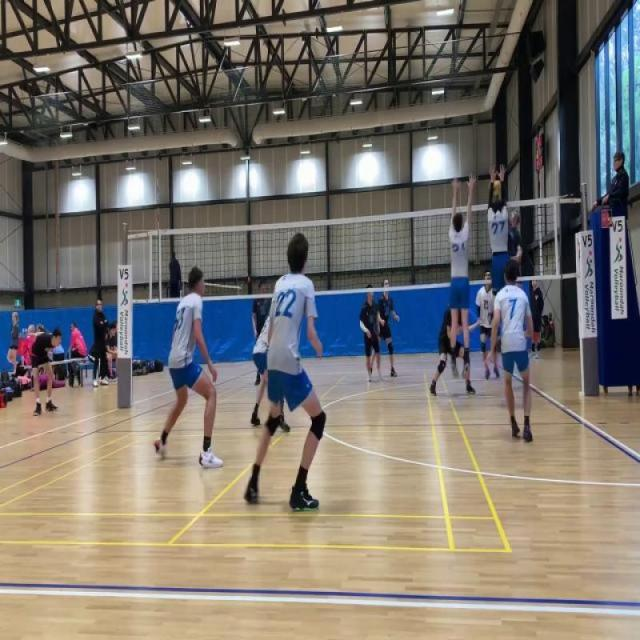volleyball: (488, 179, 501, 197)
